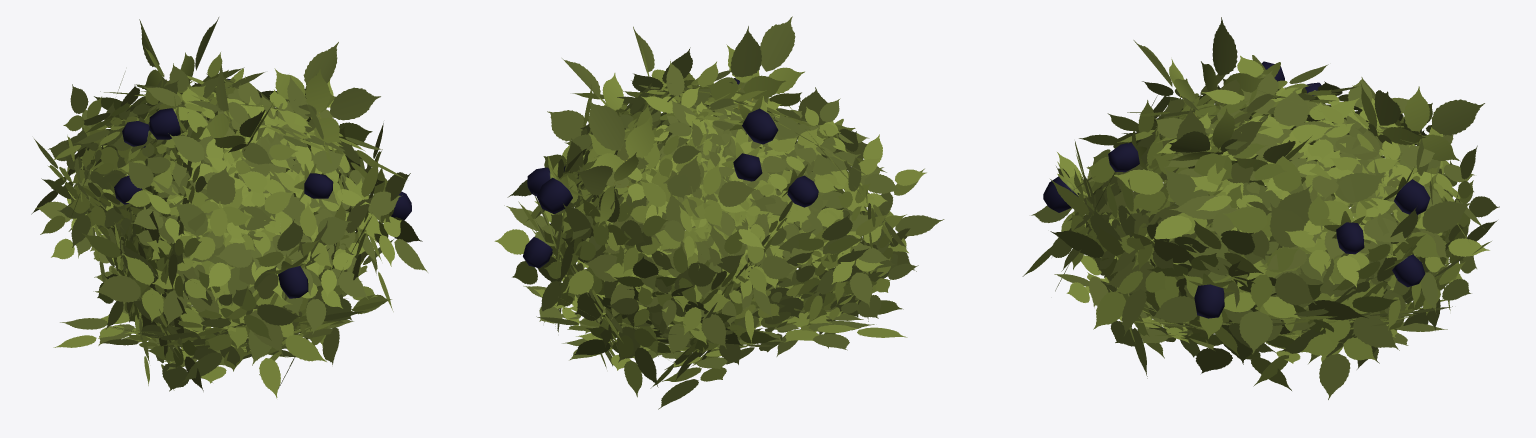
Rendered from Blackberry_Bush_3b.fbx.
3 renders of one model, left to right at view 1: azimuth 30°, elevation 25°; view 2: azimuth 150°, elevation 25°; view 3: azimuth 270°, elevation 25°, orthographic. The views are drawn at different scales.
Visible parts, largest first — view 1: Blackberry_Bush_3b; view 2: Blackberry_Bush_3b; view 3: Blackberry_Bush_3b.
Part boxes in pixels (x1,y1,x2,y2): Blackberry_Bush_3b: (31,17,427,398); Blackberry_Bush_3b: (494,16,944,409); Blackberry_Bush_3b: (1022,17,1499,399).
Bounding box in the file's own units: 137 × 111 × 146.
1 material, 1 textured.
